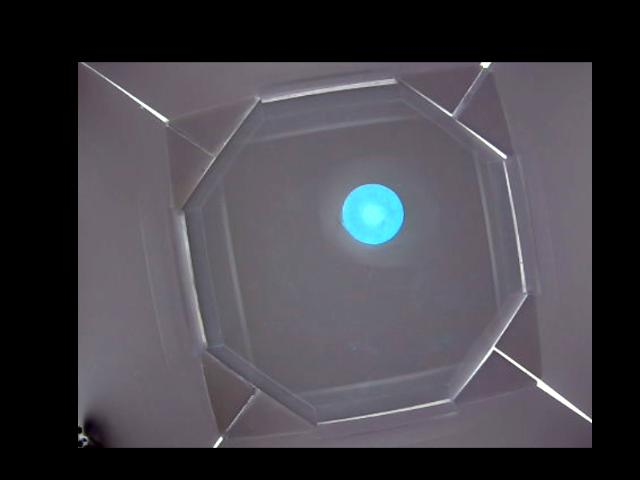Carrot: (342, 183, 404, 245)
